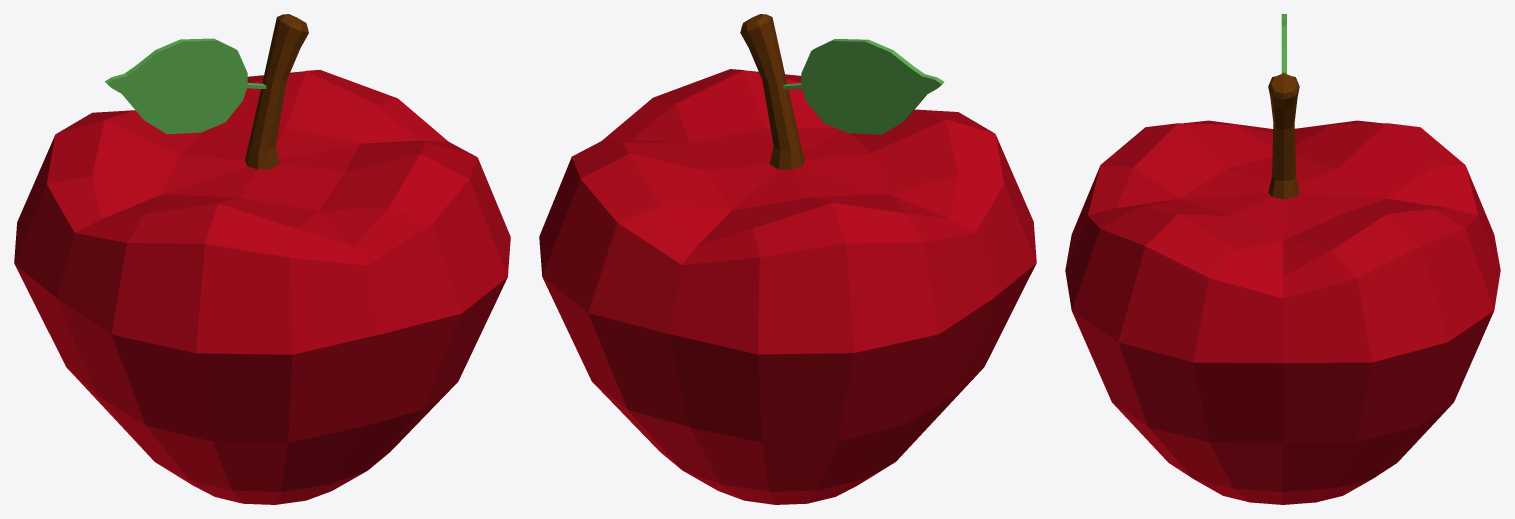
Rendered from apple.fbx.
The picture shows the model from 3 angles, left to right: view 1: azimuth 30°, elevation 25°; view 2: azimuth 150°, elevation 25°; view 3: azimuth 270°, elevation 25°; orthographic projection. The views are drawn at different scales.
Parts seen in each view (by area): view 1: Apple; view 2: Apple; view 3: Apple.
Boxes of the visible parts, box(x1,y1,x2,y2) form: Apple: box(14, 14, 510, 504); Apple: box(539, 14, 1036, 504); Apple: box(1065, 14, 1500, 504).
Size of the model in its own units: 80.25 by 85.17 by 79.87.
